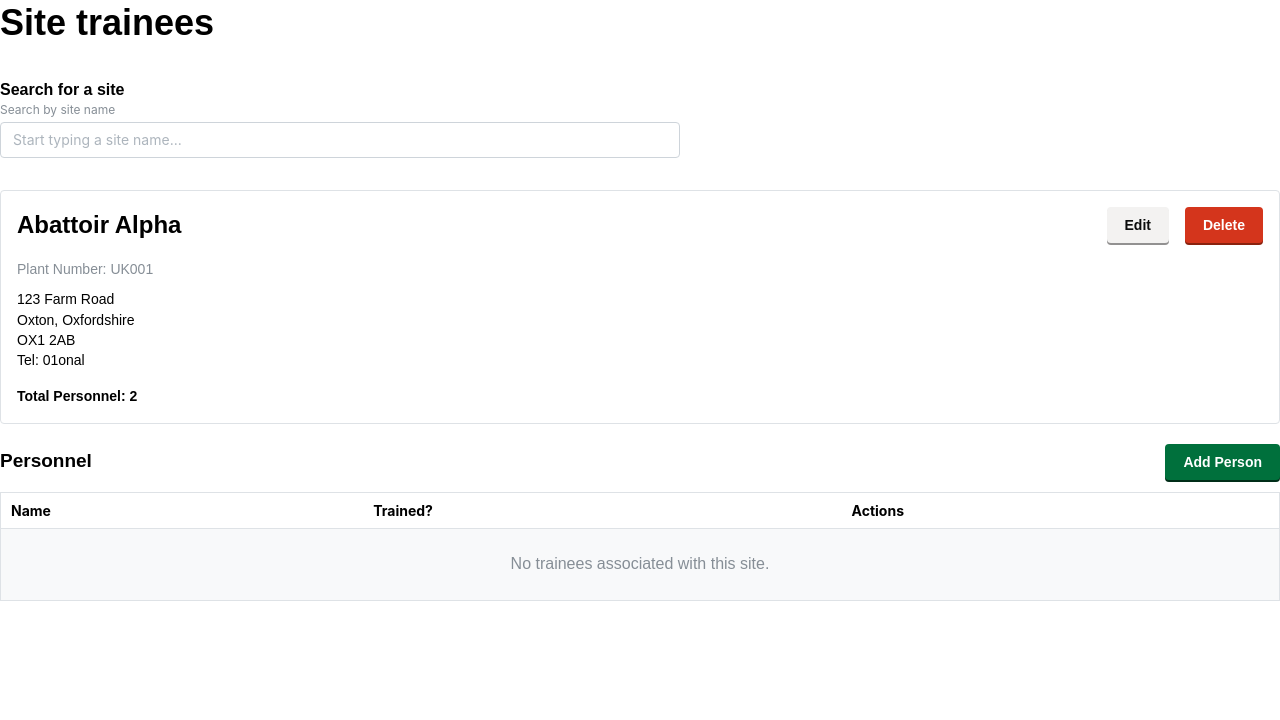
Test: SiteTraineesPage › opens delete confirmation modal when delete is clicked
Click the button with test id "delete-site-button": (1224, 225) 1185,207 -> 1263,243
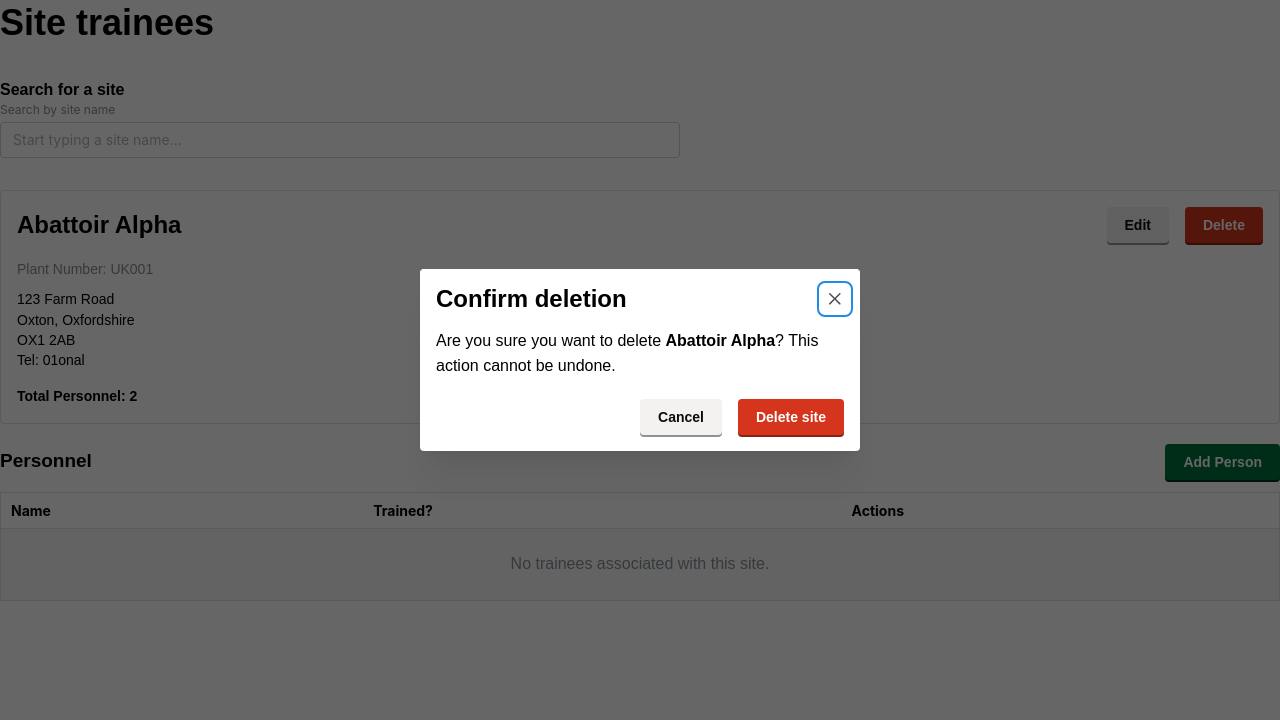
Expected: the heading "Confirm deletion" is shown, 436,287 -> 627,311
Expected: the text "Are you sure you want to delete" is shown, 436,332 -> 661,349
Expected: the button with test id "confirm-delete-button" is shown, 738,399 -> 844,435
